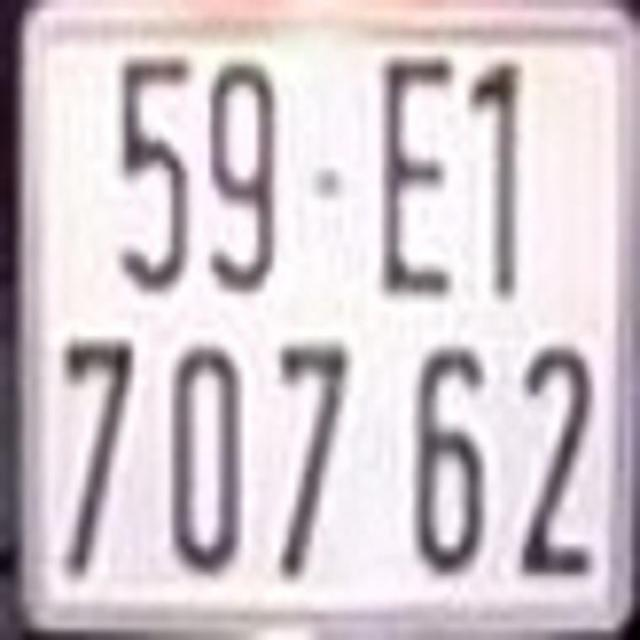0: (170, 342, 247, 572)
1: (474, 56, 520, 300)
2: (524, 344, 592, 589)
5: (114, 45, 196, 292)
6: (414, 345, 492, 577)
7: (272, 338, 348, 584), (61, 340, 132, 574)
9: (208, 59, 274, 287)
E: (378, 58, 456, 296)
